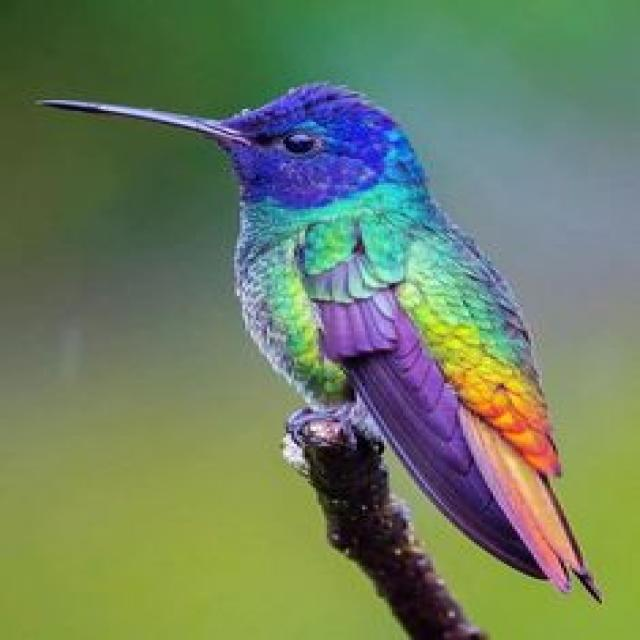Herbivorous: (33, 83, 599, 603)
